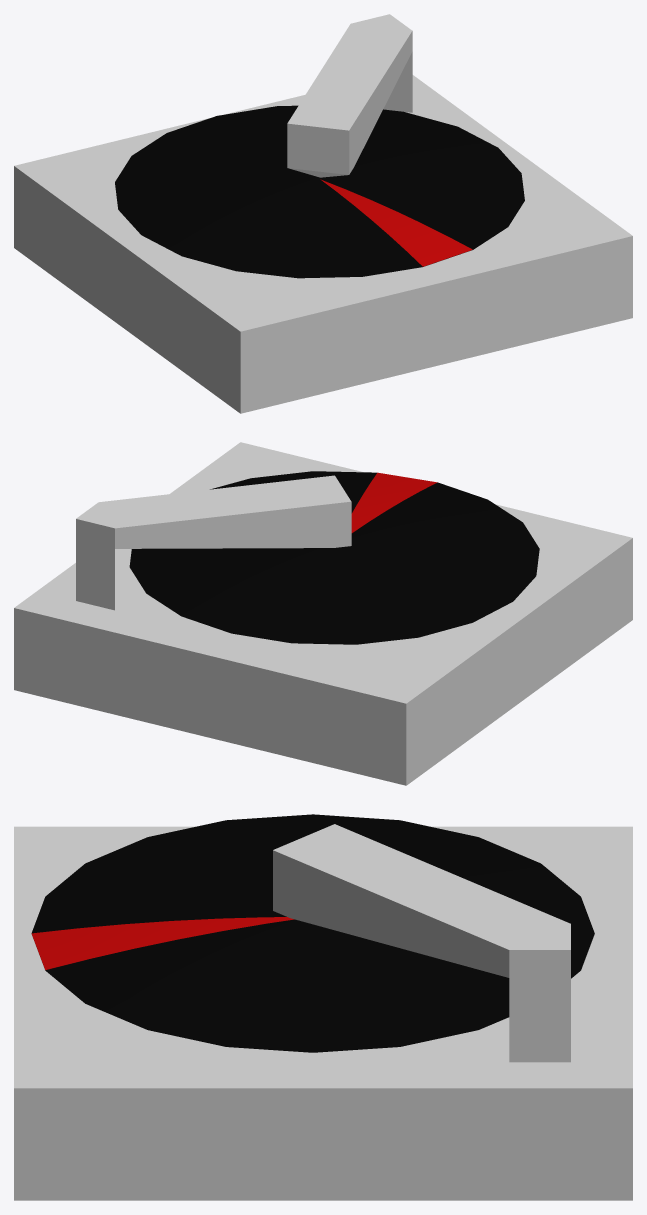
Rendered from gramofon.FBX.
3 renders of one model, top to bottom at view 1: azimuth 30°, elevation 25°; view 2: azimuth 150°, elevation 25°; view 3: azimuth 270°, elevation 25°, orthographic. The views are drawn at different scales.
Visible parts, largest first — view 1: Box001, OilTank001; view 2: Box001, OilTank001; view 3: Box001, OilTank001.
Part boxes in pixels (x1,y1,x2,y2): Box001: (14,14,632,413); OilTank001: (115,105,524,278); Box001: (14,442,632,785); OilTank001: (129,471,539,644); Box001: (14,824,632,1200); OilTank001: (31,814,594,1052).
Size of the model in its own units: 19.69 by 7.87 by 19.69.
